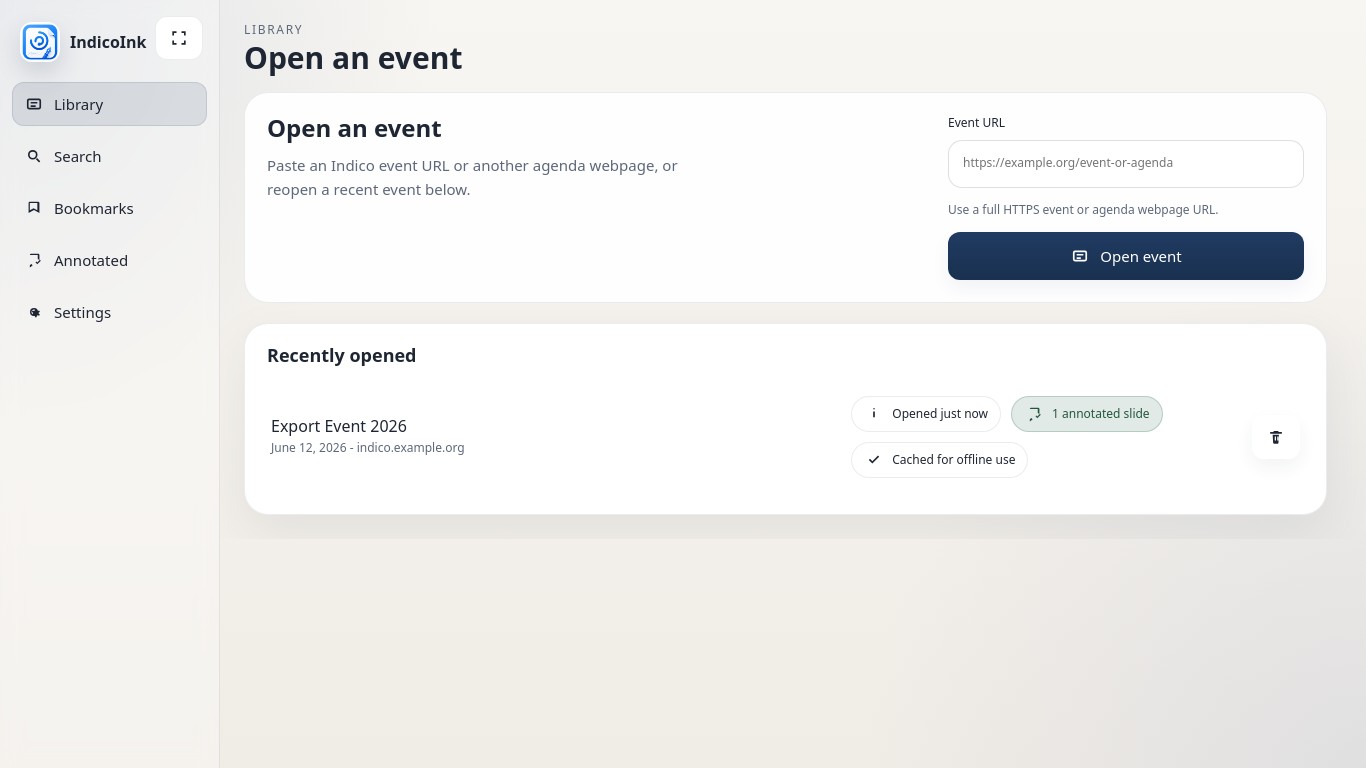
Test case: App › only shows the export dialog after a destination is selected
What coordinates should you click on to do the following:
click the button with aria-label "Open Export Event 2026"
I would click on:
 (339, 426)
Its box is [267, 382, 1304, 492].
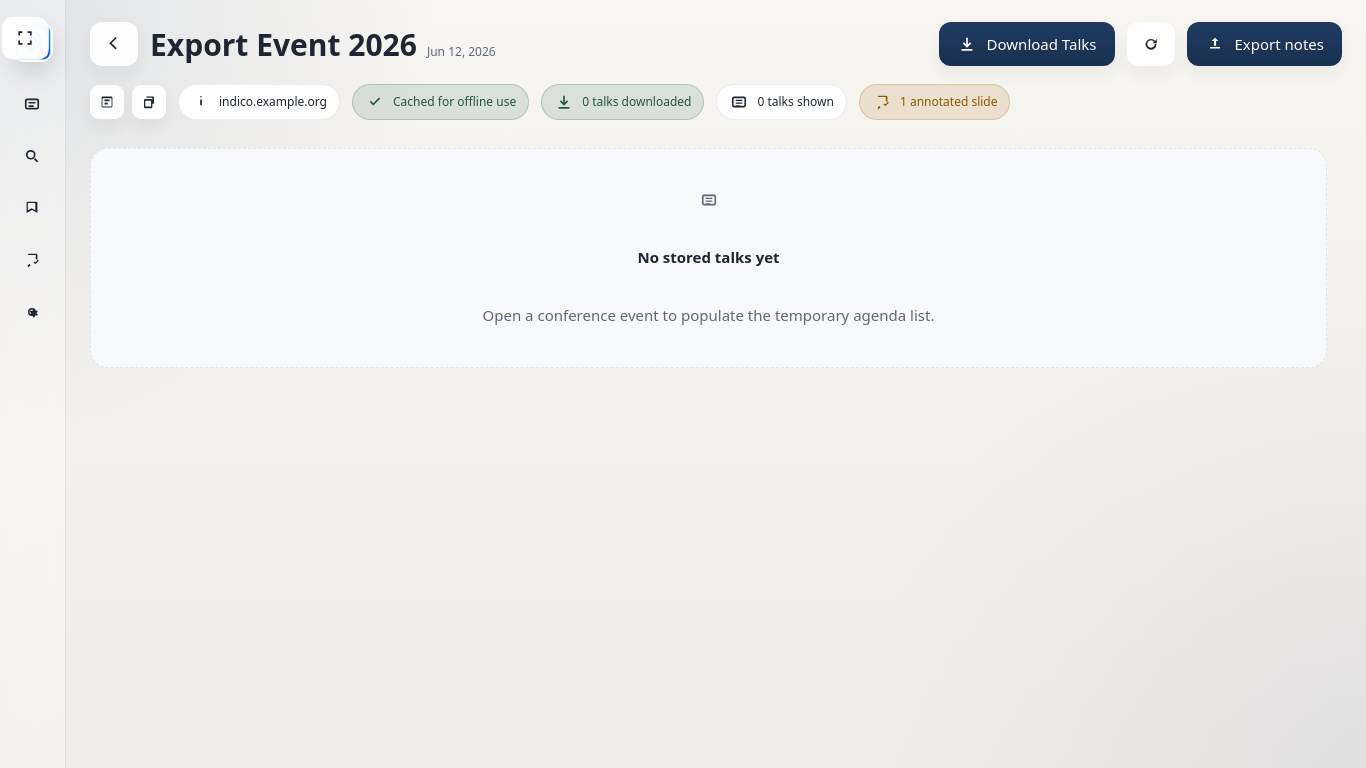
What coordinates should you click on to do the following:
click the button "Export notes"
I would click on:
 (1264, 44)
Its box is [1186, 22, 1342, 66].
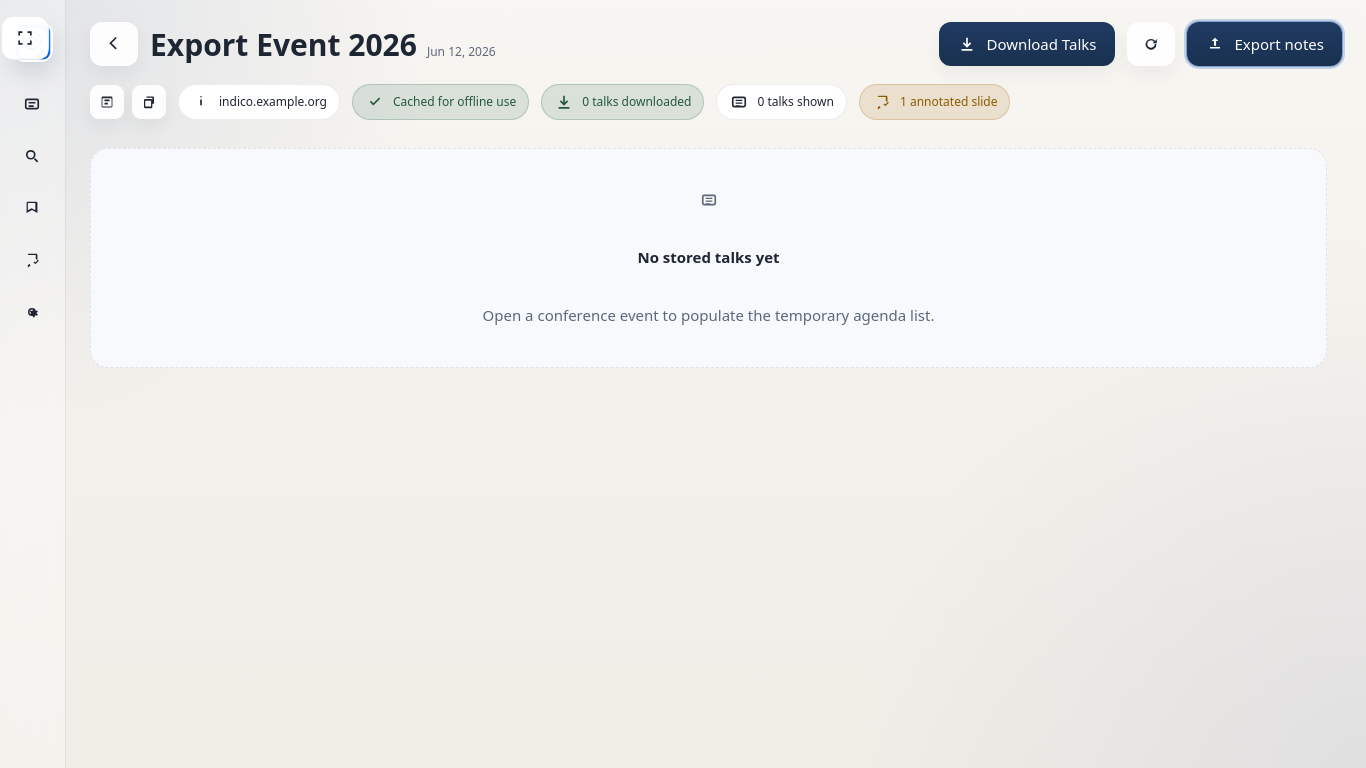
What coordinates should you click on to do the following:
click the button "Export notes"
I would click on:
 (1264, 44)
Its box is [1186, 22, 1342, 66].
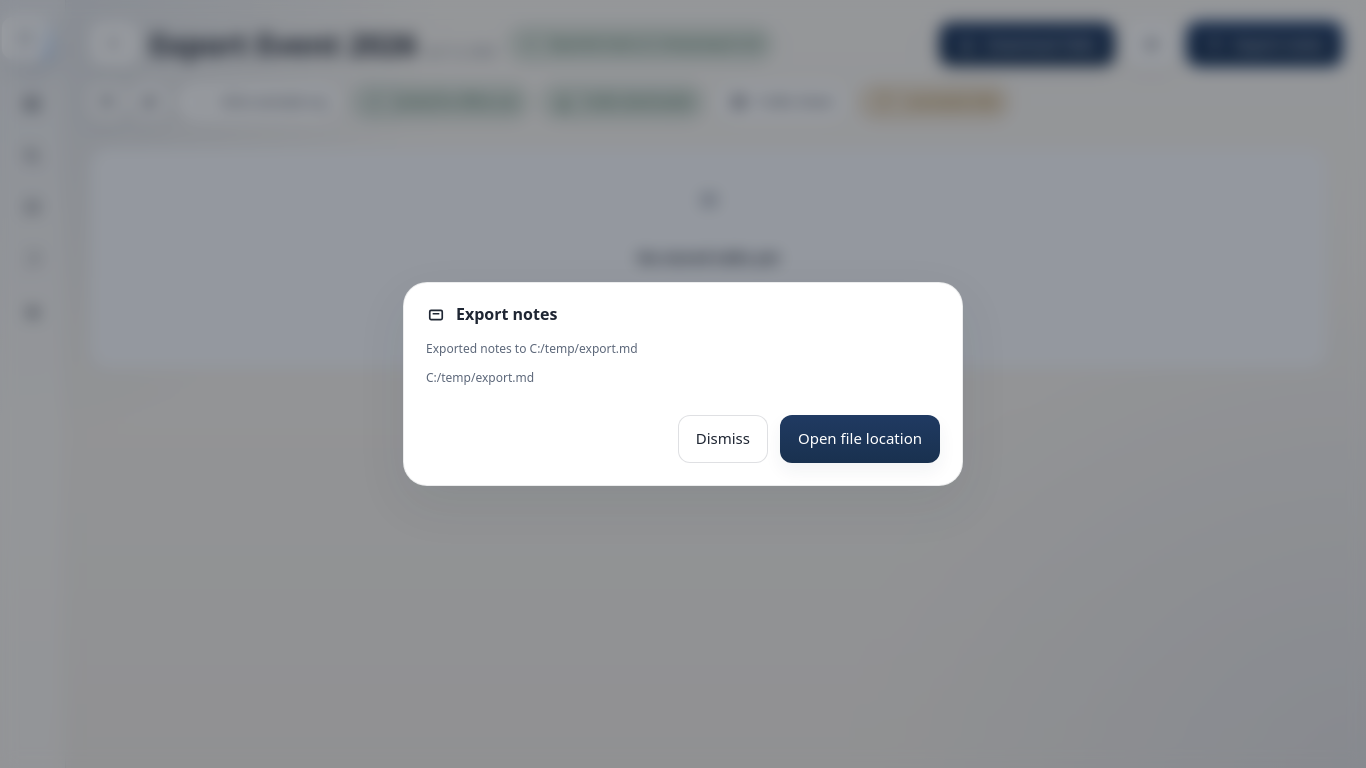
Result: the dialog "Export notes" is shown at [403, 282, 963, 486]
